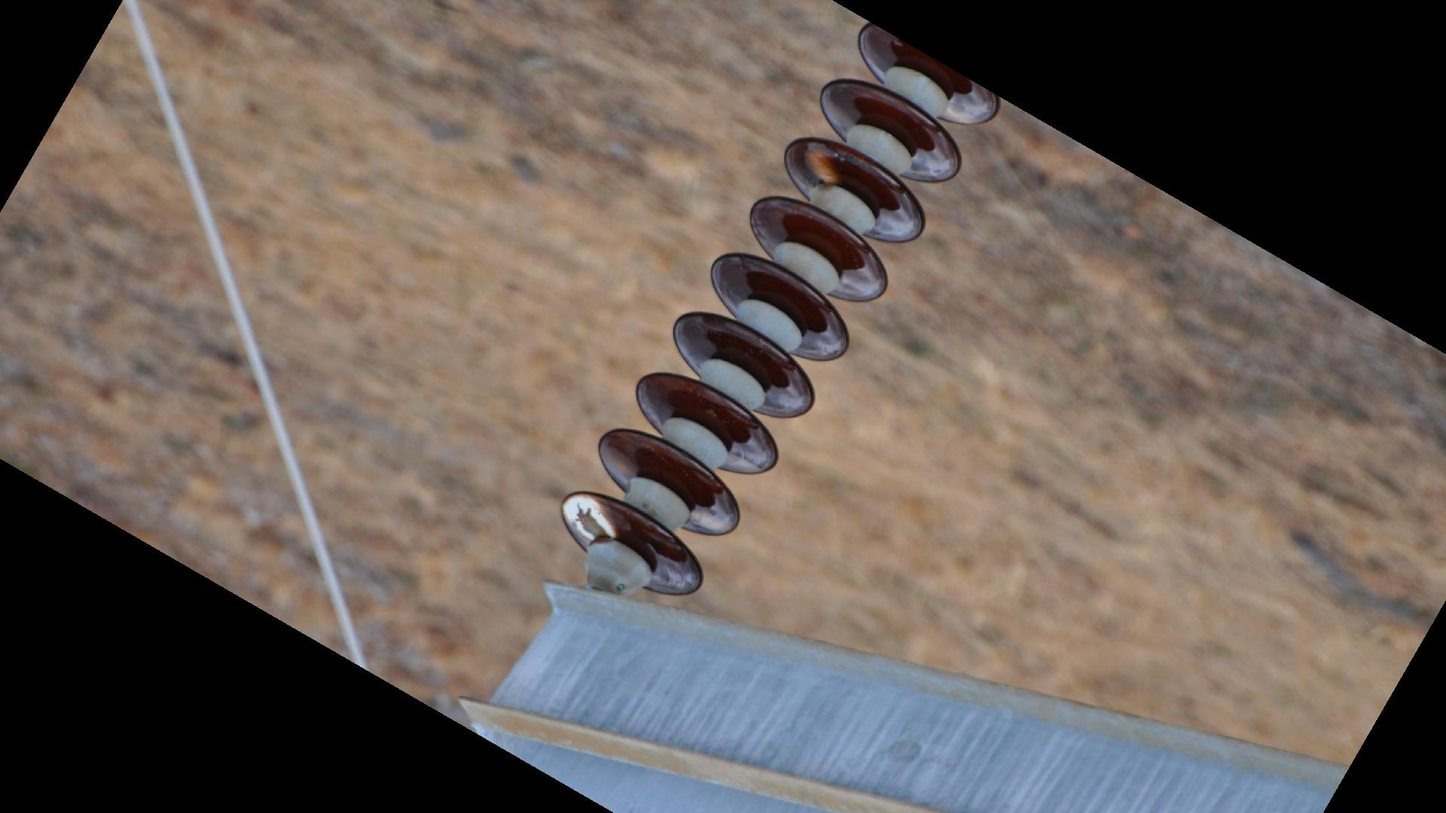insulator: (556, 15, 1008, 599)
insulator_flashover: (560, 491, 619, 544), (801, 139, 841, 187)
